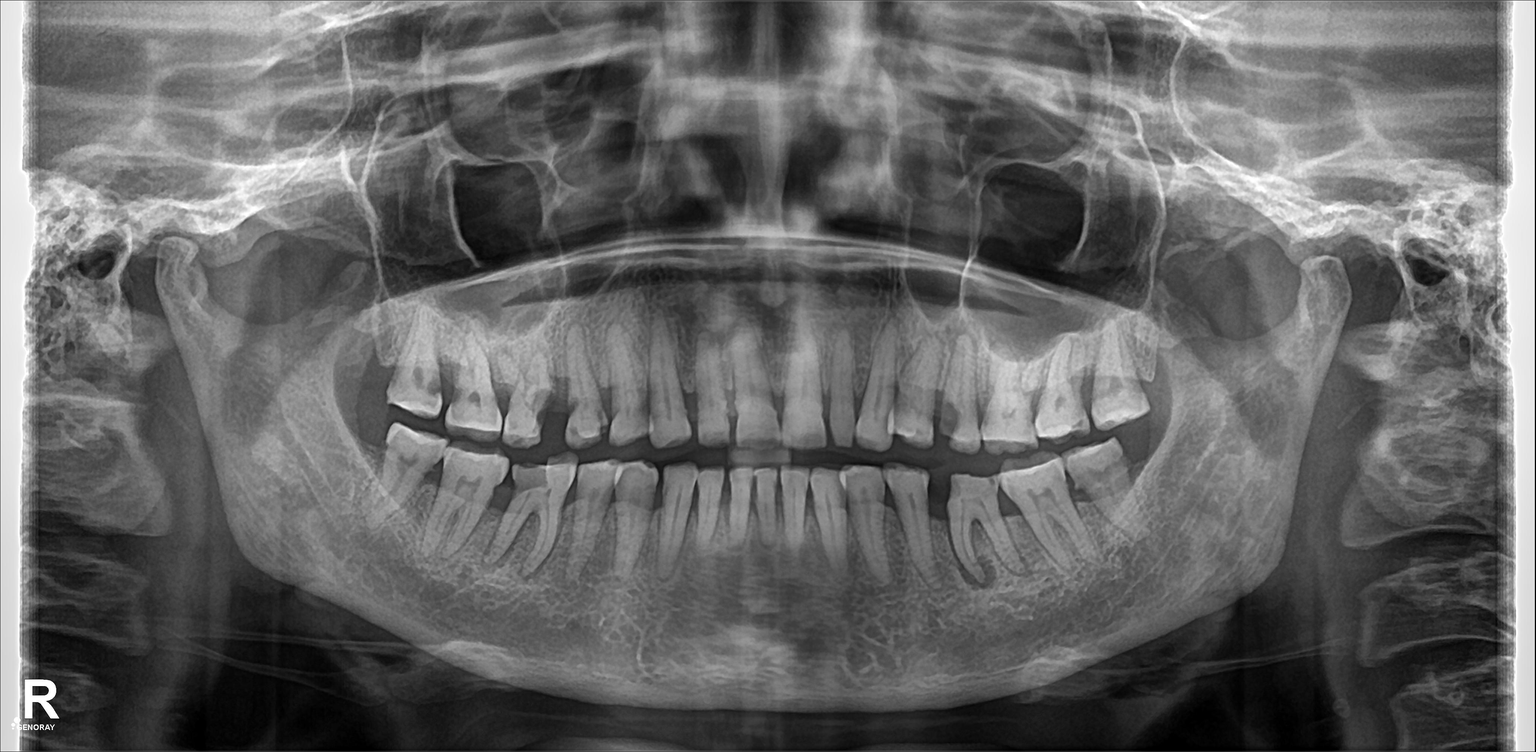Dental Caries: (544, 370, 577, 428), (931, 391, 961, 436)
Missing Tooth: (350, 324, 396, 396), (1134, 434, 1171, 495)
